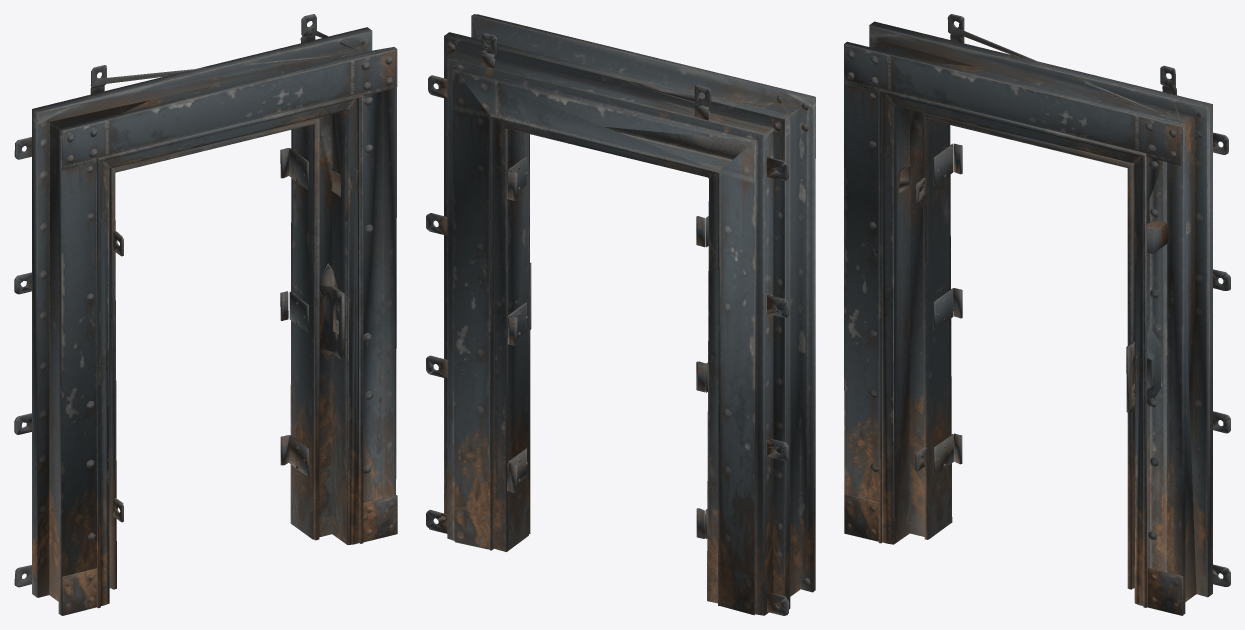
File: silo81_steel_door_frame.glb
The picture shows the model from 3 angles, left to right: view 1: azimuth 30°, elevation 25°; view 2: azimuth 150°, elevation 25°; view 3: azimuth 330°, elevation 25°; orthographic projection.
Bounding box in the file's own units: 0.7036 × 0.9526 × 0.1455.
Materials: 1 (1 with a texture image).
